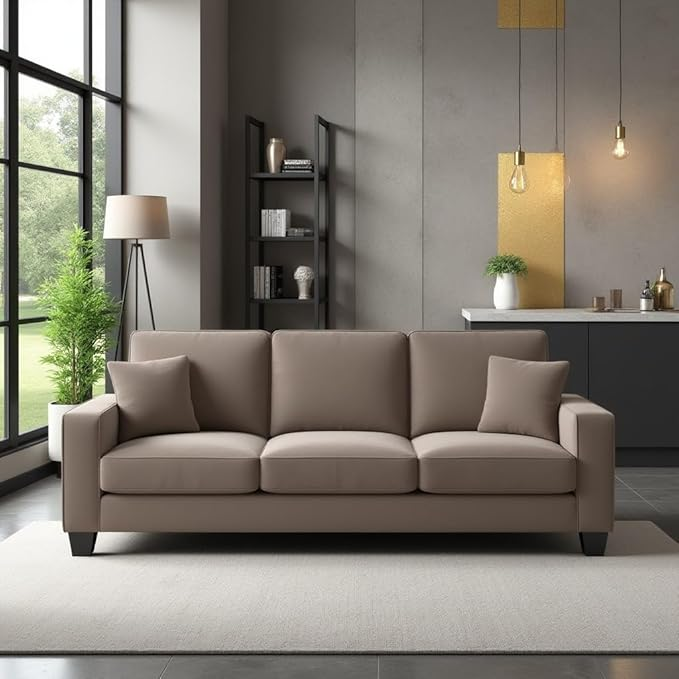backrest: (130, 328, 550, 437)
base: (97, 495, 575, 532)
leftarmrest: (555, 387, 613, 537)
leg: (68, 532, 95, 558), (582, 533, 607, 557)
pillow: (108, 352, 203, 440), (477, 360, 577, 442)
rightarmrest: (60, 388, 118, 530)
seat: (100, 428, 575, 495)
